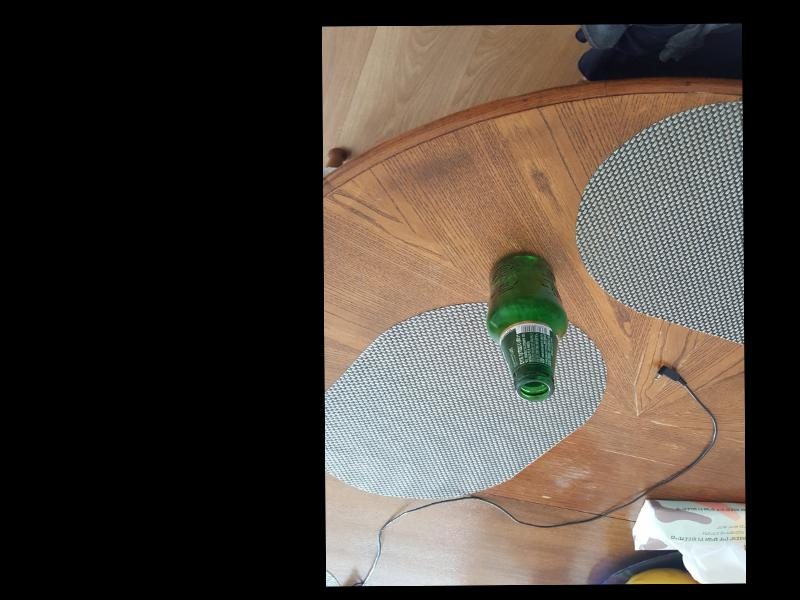Beer: (486, 252, 565, 402)
